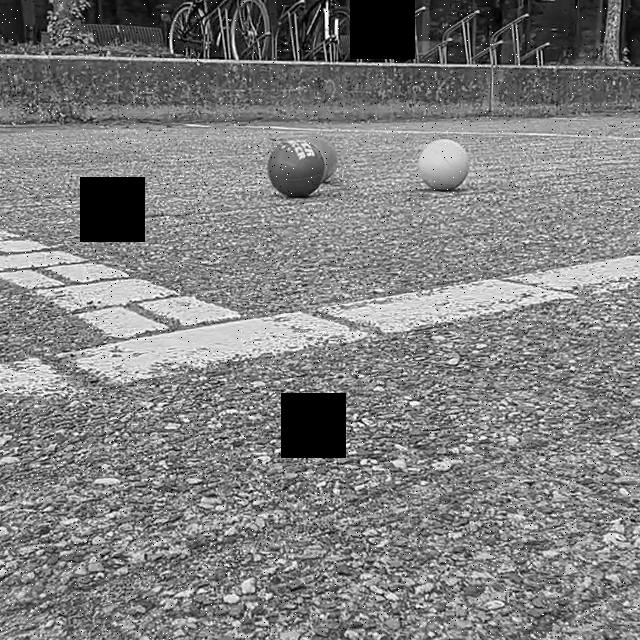ball: (268, 138, 328, 203), (419, 135, 473, 196)
